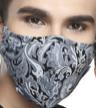with_mask: (1, 1, 96, 108)
